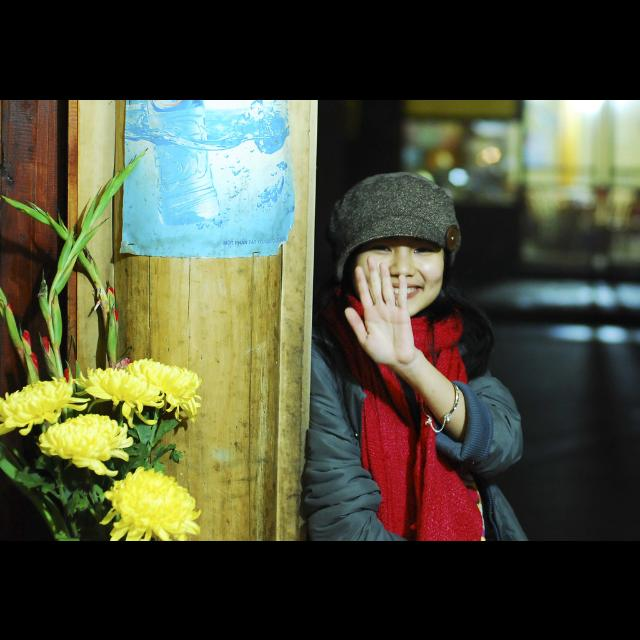Flower: (98, 468, 196, 540), (74, 366, 170, 430), (0, 375, 94, 439), (43, 413, 135, 475)
